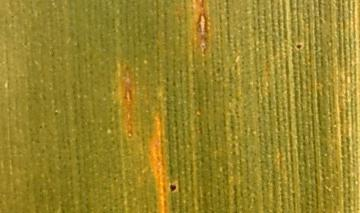tarspot: (168, 183, 177, 193), (294, 42, 303, 51)
